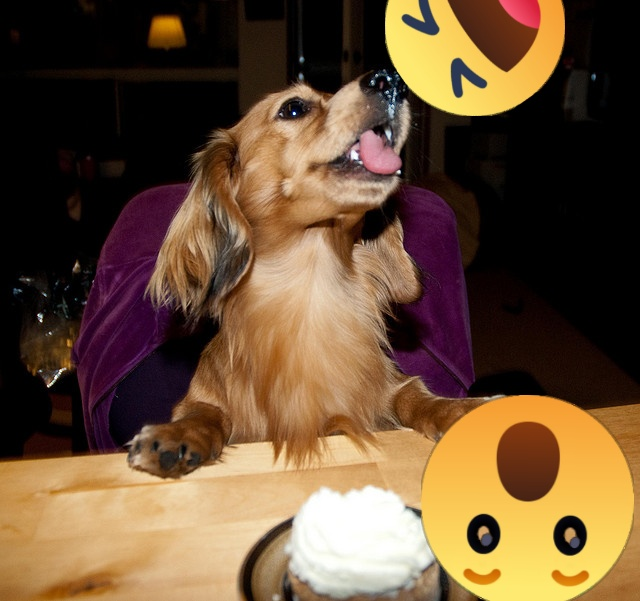haha: (385, 0, 565, 116)
wow: (421, 395, 634, 601)
